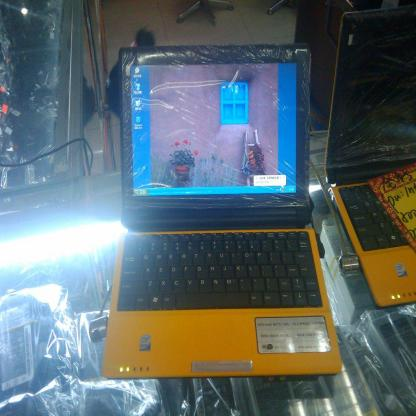board: (111, 58, 342, 386), (324, 3, 416, 307)
